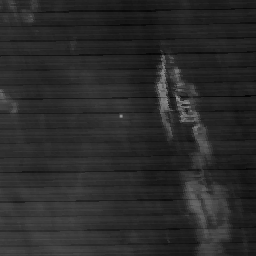Target: (117, 113, 125, 119)
